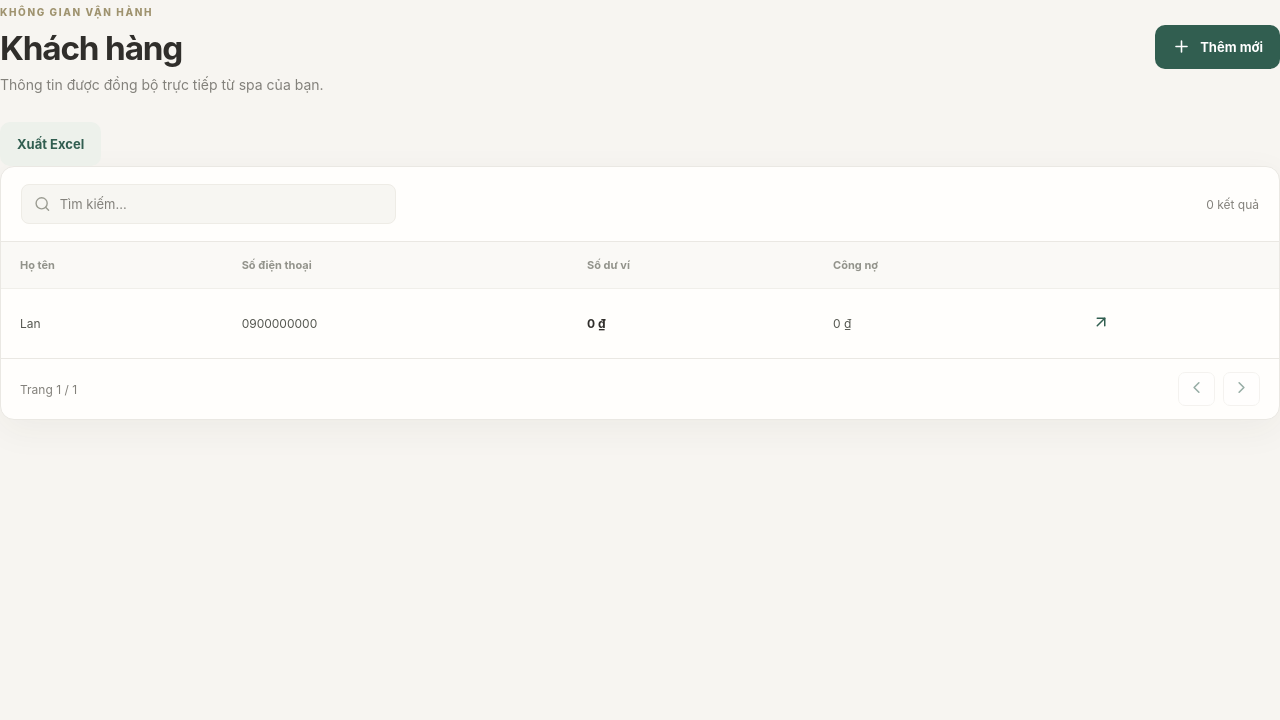
mở chi tiết khách hàng hiển thị ghi chú nhiều dòng từ hồ sơ API
Click the button named "Xem Lan" at (1101, 324), box [1085,306,1117,341]
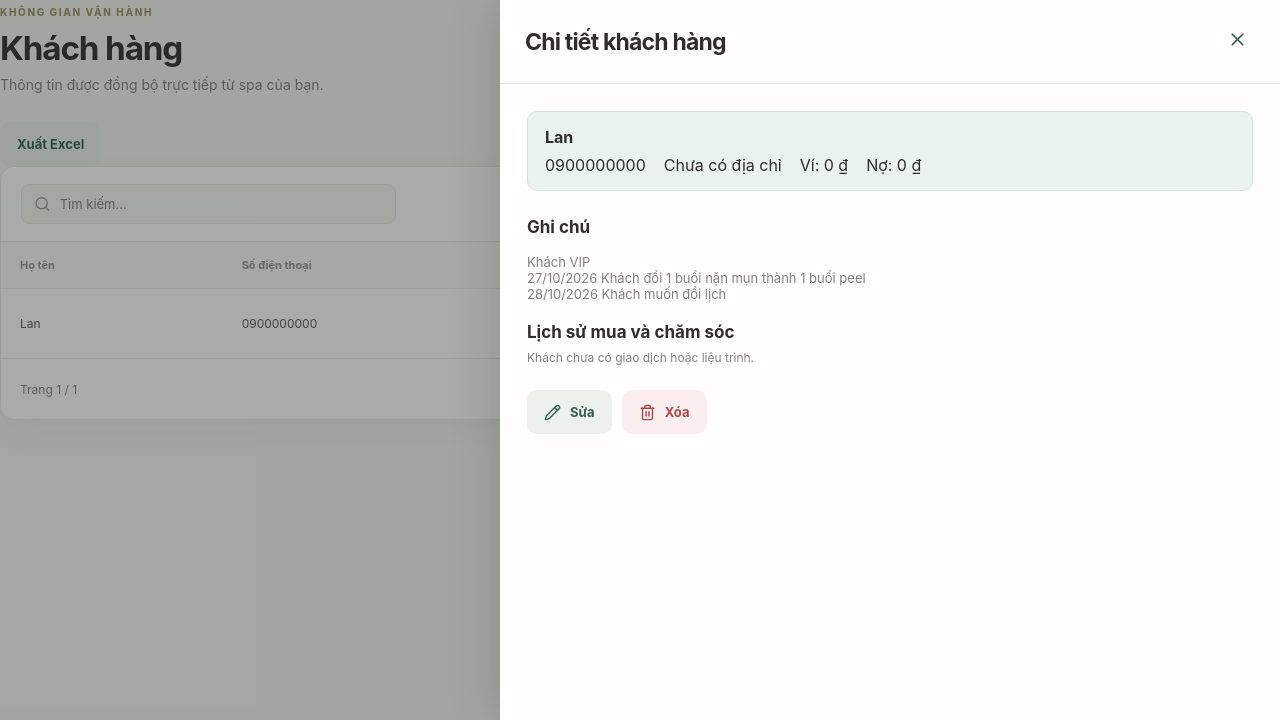
Expected: the element "Ghi chú" is shown, [527,217,866,302]
Expected: the text "Nợ:" is shown once, [866,155,921,175]
Expected: the element with class "customer-identity" shows "Nợ: 0 ₫", [527,111,1253,191]
